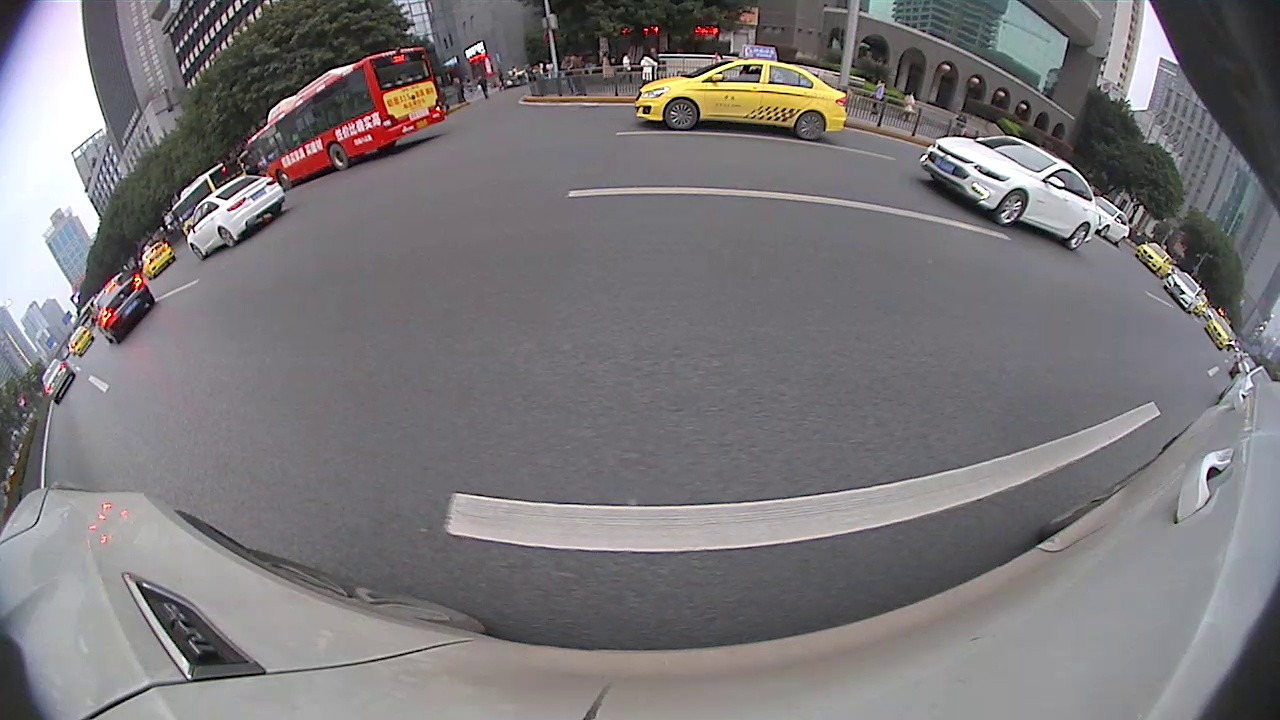bus: (244, 48, 446, 195), (171, 165, 237, 246)
car: (916, 135, 1094, 251), (633, 58, 849, 143), (185, 174, 287, 264), (91, 269, 156, 347), (1087, 195, 1131, 252), (40, 358, 84, 404), (1158, 270, 1203, 313), (140, 239, 178, 282), (1136, 240, 1174, 280)
front: (997, 194, 1025, 224), (277, 172, 291, 189), (191, 244, 203, 260)
rear: (667, 100, 696, 130), (796, 115, 827, 139), (1068, 224, 1089, 249), (327, 145, 348, 168), (218, 227, 235, 245)
